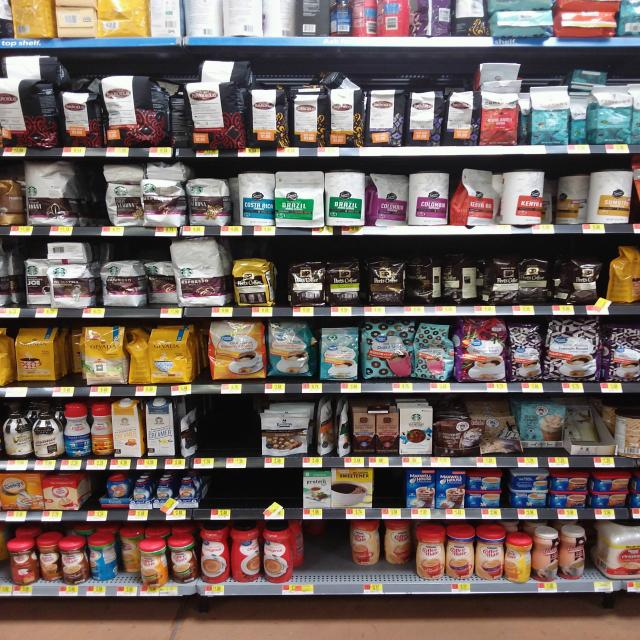unorganised: (406, 257, 600, 303), (7, 324, 83, 387), (549, 170, 635, 223), (95, 248, 172, 306), (230, 520, 294, 582), (352, 521, 412, 581), (532, 524, 587, 583), (183, 1, 262, 38), (450, 167, 494, 227), (102, 163, 143, 227), (499, 169, 545, 226), (1, 250, 48, 305), (409, 169, 451, 228), (366, 172, 409, 225), (316, 397, 351, 457), (605, 245, 639, 303), (7, 539, 39, 587), (3, 405, 33, 456), (124, 327, 150, 384), (503, 531, 531, 583), (88, 532, 116, 581), (117, 528, 140, 586), (261, 1, 297, 37), (569, 85, 589, 145), (350, 1, 377, 37), (179, 408, 198, 457)
